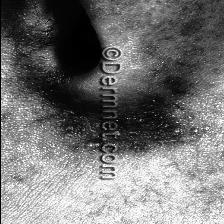Non-Cancerous Skin Condition: (121, 69, 203, 178), (13, 71, 90, 164), (5, 0, 100, 51)
